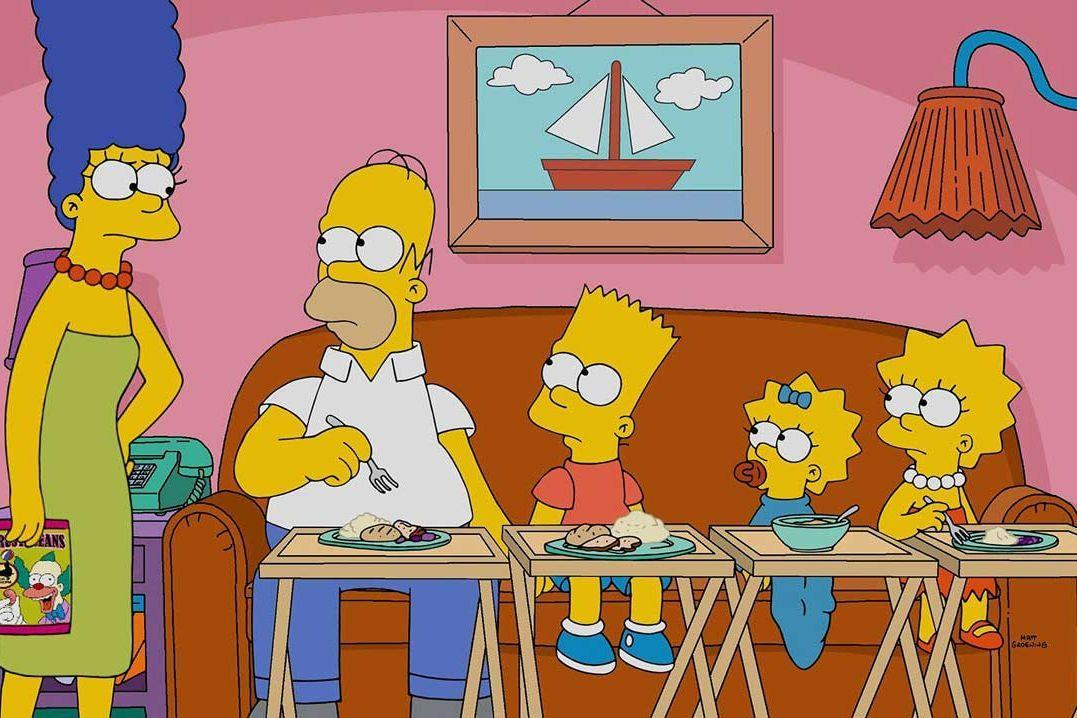Bart: (496, 282, 704, 680)
Homer: (230, 139, 529, 718)
Lisa: (871, 316, 1021, 655)
Maggie: (726, 359, 870, 677)
Marge: (9, 0, 203, 718)
